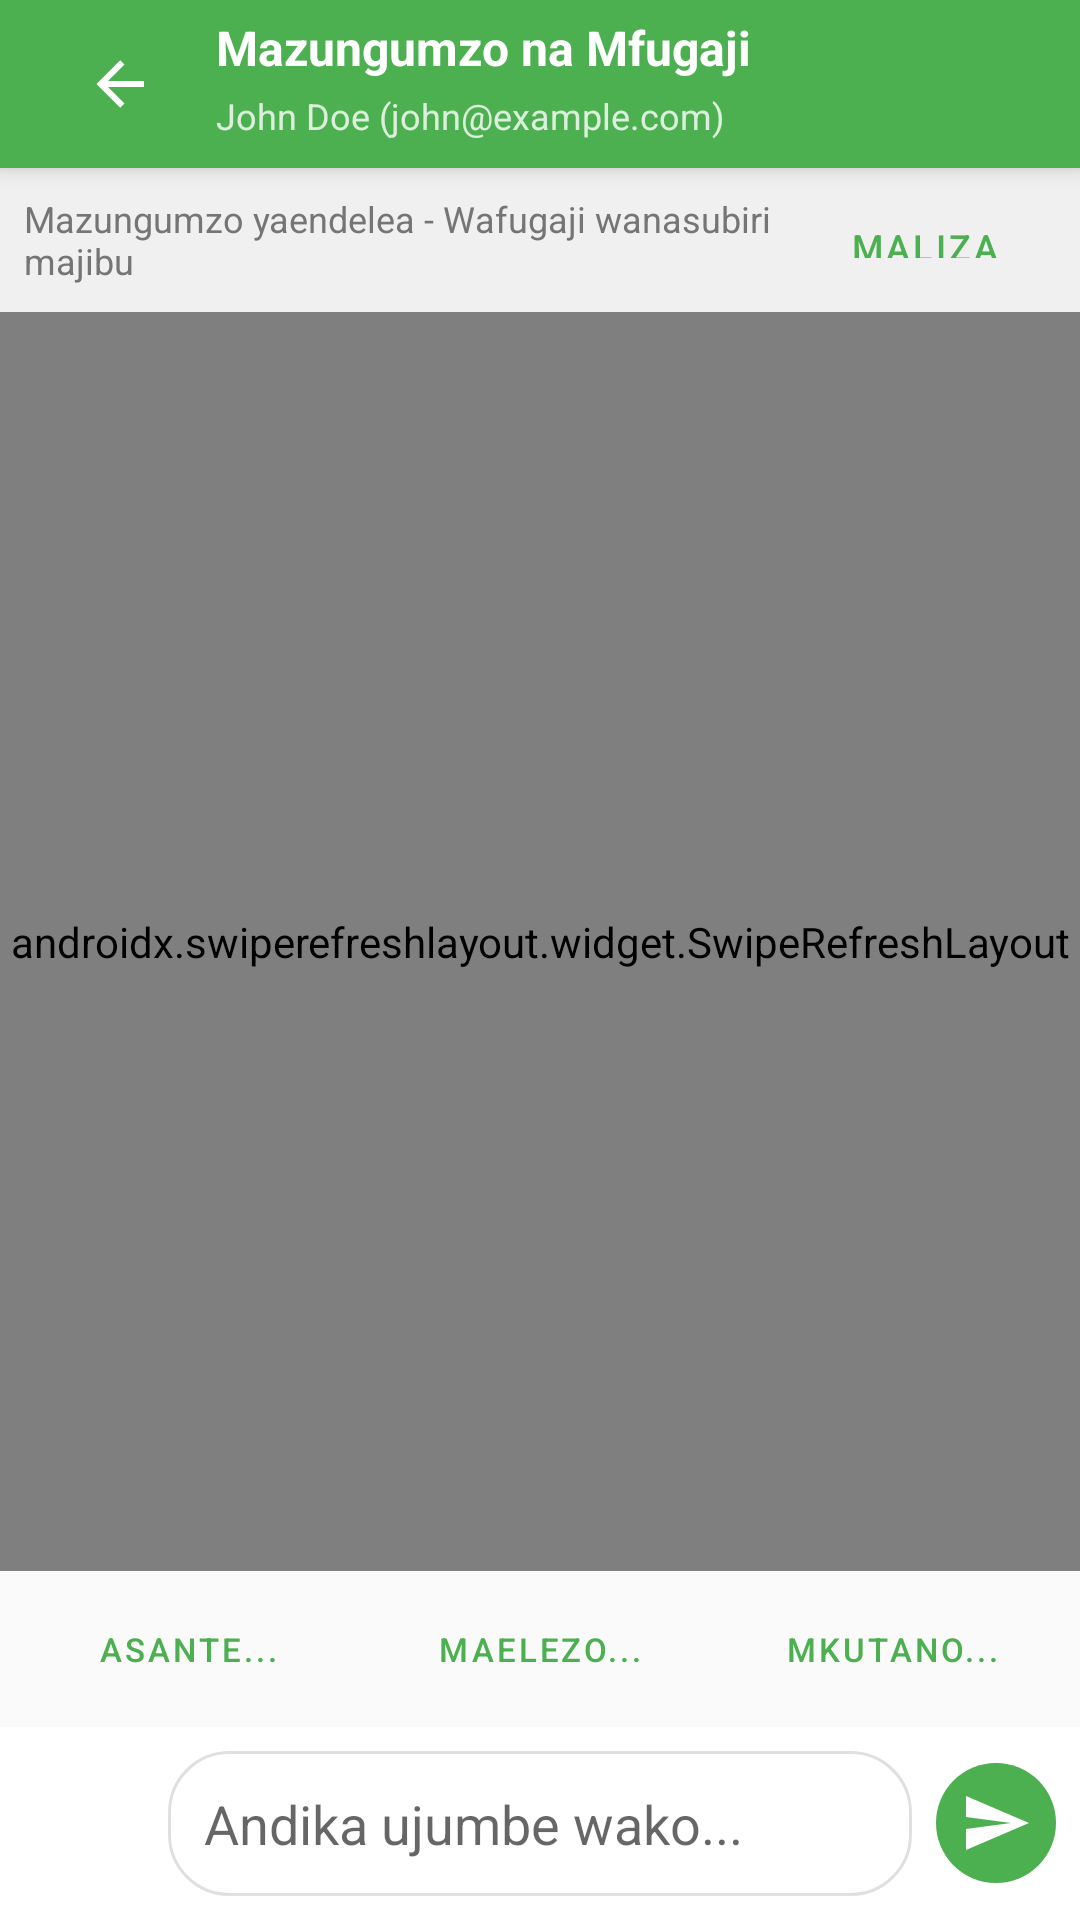

Where to tap for icons on this 1080x1920 app screen, as point (x, y):
Rudi nyuma: point (120, 84)
Tuma ujumbe: point (996, 1823)
